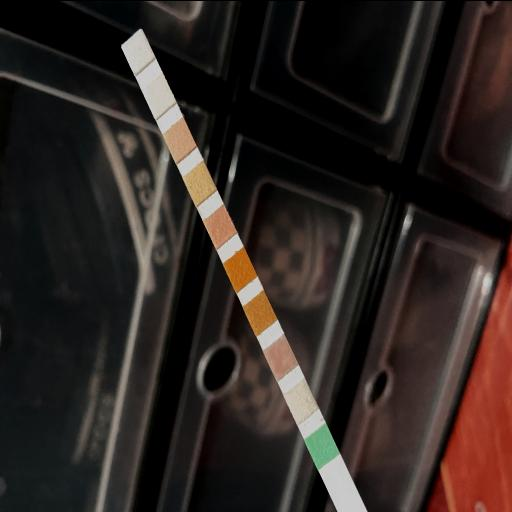Bilirubin: (290, 388, 310, 412)
Blood: (230, 258, 250, 280)
Glucose: (313, 434, 331, 458)
Ketone: (270, 346, 290, 366)
Leukocytes: (128, 39, 148, 61)
Nitrite: (148, 83, 168, 106)
Protein: (190, 172, 209, 193)
SpGravity: (250, 300, 270, 324)
Urobilinogen: (170, 128, 189, 150)
pH: (210, 215, 230, 236)
strip: (121, 28, 368, 512)
